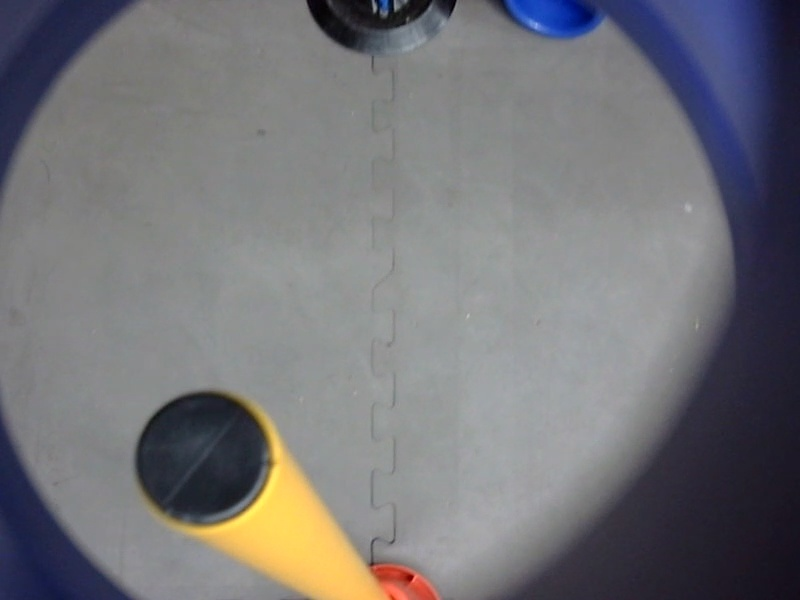tip: (128, 379, 286, 546)
